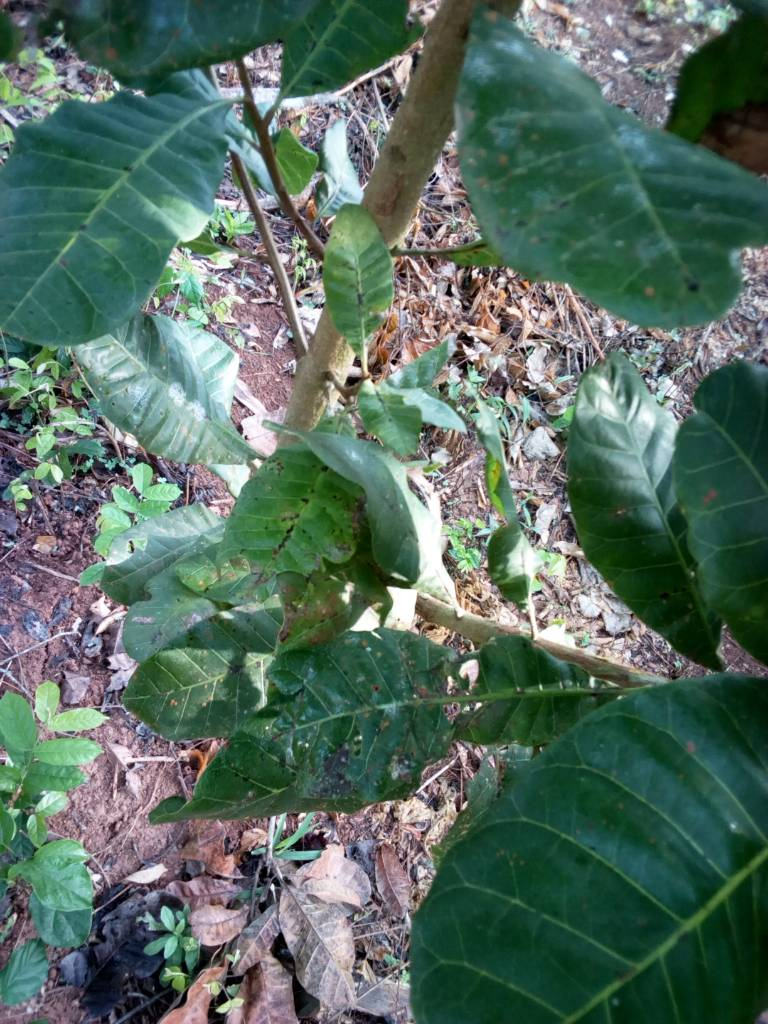Anoplonemis curvipes: (138, 618, 463, 857), (186, 449, 404, 594)
